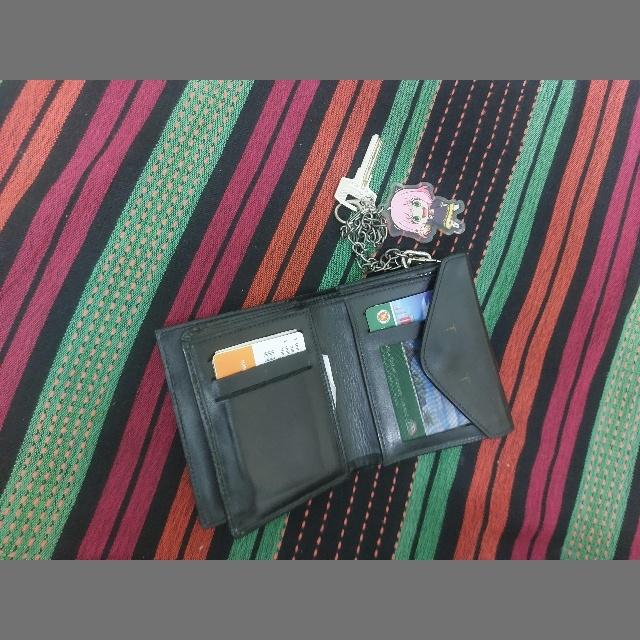Keys: (334, 134, 382, 210)
Wallet: (153, 254, 514, 538)
